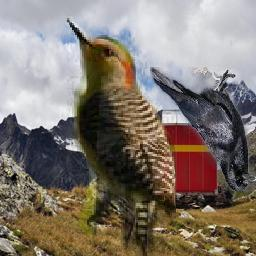Crow: (150, 67, 256, 191)
Woodpecker: (64, 16, 177, 256)
